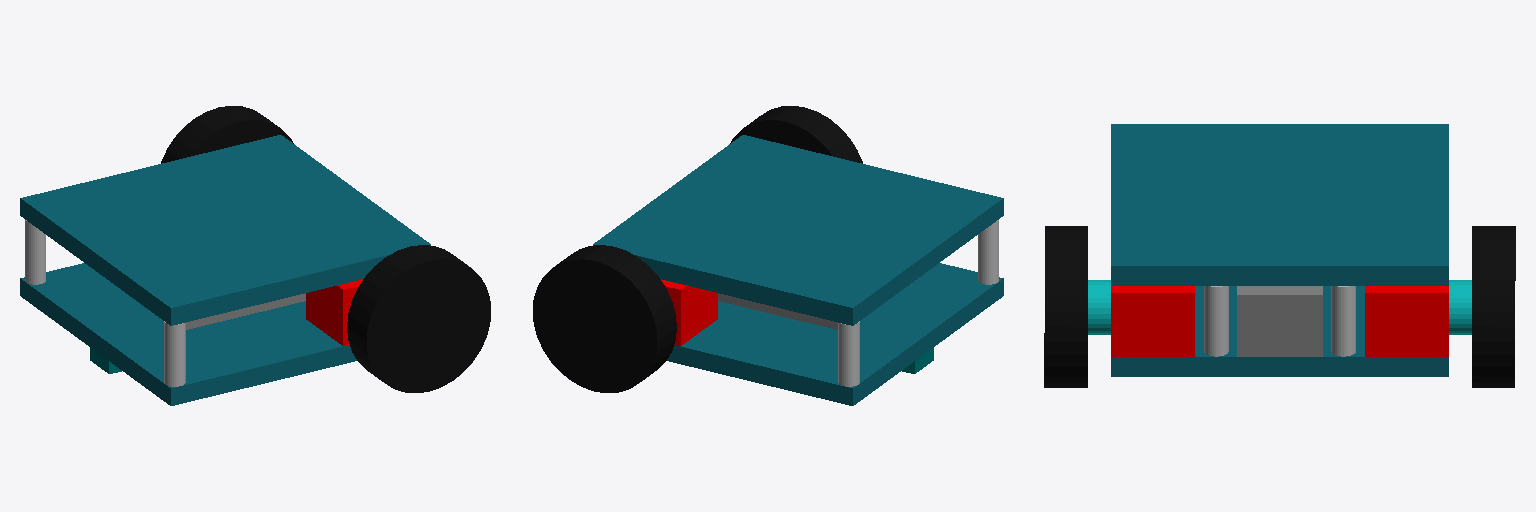
The robot description file, URDF, robot "turtlebot3_burger":
<?xml version="1.0"?>
<robot name="turtlebot3_burger" xmlns:xacro="http://www.ros.org/wiki/xacro">
  
  <material name="box_bot_blue">
      <color rgba="0.088656 0.428691 0.491021 1"/>
  </material>

  <material name="drive_motor">
      <color rgba="1 0 0 1"/>
  </material>

  <material name="battery">
      <color rgba="0.55 0.55 0.55 1"/>
  </material>
  
  <material name="spacer_35mm">
      <color rgba="0.75 0.75 0.75 1"/>
  </material>

  <material name="wheel_axel">
      <color rgba="0.1 0.75 0.75 1"/>
  </material>
  
  <material name="wheel">
      <color rgba="0.1 0.1 0.1 1"/>
  </material>

  <material name="castor_wheel_support">
      <color rgba="0 0.5 0.5 1"/>
  </material>

  <material name="red">
      <color rgba="1.0 0.0 0.0 1"/>
  </material>

  <material name="green_light">
      <color rgba="0.0 1.0 0.0 1"/>
  </material>

  <material name="green_dark">
    <color rgba="0.0 0.5 0.0 1"/>
  </material>

  <material name="blue">
      <color rgba="0.0 0.0 1.0 1"/>
  </material>

  <material name="black">
      <color rgba="0.0 0.0 0.0 1"/>
  </material>

  <material name="white">
      <color rgba="1.0 1.0 1.0 1"/>
  </material>

  <link name="base_link">
  </link>


  <!-- chassis 137.5mm x 137.5mm x 9mm -->
  <link name="chassis">

    <inertial>
      <mass value="0.2"/>
      <origin rpy="0 0 0" xyz="0 0 0"/>
      <inertia ixx="0.00011075895833333336" ixy="0" ixz="0" iyy="0.00011075895833333336" iyz="0" izz="0.00022057291666666671"/>
    </inertial>

    <collision>
      <geometry>
        <box size="0.1375 0.1375 0.009"/>
      </geometry>
    </collision>

    <visual>
      <geometry>
        <box size="0.1375 0.1375 0.009"/>
      </geometry>
      <material name="box_bot_blue"/>
    </visual>
  </link>

  <joint name="base_link_joint" type="fixed">
    <origin rpy="0 0 0" xyz="0 0 0" />
    <parent link="base_link" />
    <child link="chassis" />
  </joint>

  <!-- chassis 137.5mm x 137.5mm x 9mm -->
  <link name="chassis1">
    <inertial>
      <mass value="0.2"/>
      <origin rpy="0 0 0" xyz="0 0 0"/>
      <inertia ixx="0.00011075895833333336" ixy="0" ixz="0" iyy="0.00011075895833333336" iyz="0" izz="0.00022057291666666671"/>
    </inertial>

    <collision>
      <geometry>
        <box size="0.1375 0.1375 0.009"/>
      </geometry>
    </collision>

    <visual>
      <geometry>
        <box size="0.1375 0.1375 0.009"/>
      </geometry>
      <material name="box_bot_blue"/>
    </visual>
  </link>
  <joint name="chasis_to_chasis_1" type="fixed">
    <origin rpy="0 0 0" xyz="0 0 0.0405" />
    <parent link="chassis" />
    <child link="chassis1" />
  </joint>

  <!-- Drive motor - 46.5mm x 34mm x 28.5mm -->
  <link name="drive_motor_1">

 <inertial>
    <mass value="0.050"/>
    <origin xyz="0 0 0" rpy="0 0 0"/> <!-- Center of mass assumed at the origin -->
    <inertia ixx="8.201041666666668e-06" ixy="0" ixz="0"
             iyy="1.239375e-05" iyz="0"
             izz="1.3826041666666666e-05"/>
  </inertial>

  <!-- Collision Block -->
  <collision>
    <geometry>
      <box size="0.0465 0.034 0.0285"/> <!-- Width, Depth, Height -->
    </geometry>
    <origin xyz="0 0 0" rpy="0 0 0"/> <!-- Assuming the collision box is aligned with the link's frame -->
  </collision>

    <visual>
      <geometry>
        <box size="0.0465 0.034 0.0285"/>
      </geometry>
      <material name="drive_motor"/>
    </visual>
  </link>

<joint name="chasis_left_drive_motor" type="fixed">
  <origin rpy="0 0 0" xyz="0.0455 0.05175 0.01875" />
  <parent link="chassis" />
  <child link="drive_motor_1" />
</joint>

  <link name="drive_motor_2">
 <inertial>
    <mass value="0.050"/>
    <origin xyz="0 0 0" rpy="0 0 0"/> <!-- Center of mass assumed at the origin -->
    <inertia ixx="8.201041666666668e-06" ixy="0" ixz="0"
             iyy="1.239375e-05" iyz="0"
             izz="1.3826041666666666e-05"/>
  </inertial>

  <!-- Collision Block -->
  <collision>
    <geometry>
      <box size="0.0465 0.034 0.0285"/> <!-- Width, Depth, Height -->
    </geometry>
    <origin xyz="0 0 0" rpy="0 0 0"/> <!-- Assuming the collision box is aligned with the link's frame -->
  </collision>  
    <visual>
      <geometry>
        <box size="0.0465 0.034 0.0285"/>
      </geometry>
      <material name="drive_motor"/>
    </visual>
  </link>

<joint name="chasis_right_drive_motor" type="fixed">
  <origin rpy="0 0 0" xyz="0.0455 -0.05175 0.01875" />
  <parent link="chassis" />
  <child link="drive_motor_2" />
</joint>

    <!-- 0.2 kg 0.100 0.035 0.0275 -->

  <link name="battery">
  <!-- Inertial Block -->
  <inertial>
    <mass value="0.2"/>
    <origin xyz="0 0 0" rpy="0 0 0"/> <!-- Center of mass assumed at the origin -->
    <inertia ixx="3.302083333333334e-05" ixy="0" ixz="0"
             iyy="0.00017927083333333337" iyz="0"
             izz="0.00018708333333333337"/>
  </inertial>

  <!-- Collision Block -->
  <collision>
    <geometry>
      <box size="0.1 0.035 0.0275"/> <!-- Width, Depth, Height -->
    </geometry>
    <origin xyz="0 0 0" rpy="0 0 0"/> <!-- Assuming the collision box is aligned with the link's frame -->
  </collision>

    <visual>
      <geometry>
        <box size="0.100 0.035 0.0275"/>
      </geometry>
      <material name="battery"/>
    </visual>
  </link>

<joint name="chasis_battery" type="fixed">
  <origin rpy="0 0 0" xyz="0.01875 0 0.01825" />
  <parent link="chassis" />
  <child link="battery" />
</joint>

  <link name="spacer_chasis_1_01">
  <inertial>
    <mass value="0.007"/>
    <origin xyz="0 0 0" rpy="0 0 0"/> <!-- Center of mass assumed at the origin -->
    <inertia ixx="7.583333333333335e-07" ixy="0" ixz="0"
             iyy="7.583333333333335e-07" iyz="0"
             izz="8.750000000000001e-08"/>
  </inertial>

  <!-- Collision Block -->
  <collision>
    <geometry>
      <cylinder radius="0.005" length="0.035"/> <!-- Radius and Height (length) of the cylinder -->
    </geometry>
    <origin xyz="0 0 0" rpy="0 0 0"/> <!-- Assuming the collision cylinder is aligned with the link's frame -->
  </collision>  
    <visual>
      <geometry>
        <cylinder radius="0.005" length="0.035"/>
      </geometry>
      <material name="spacer_35mm"/>
    </visual>
  </link>

<joint name="chasis_spacer_chasis_1_01" type="fixed">
  <origin rpy="0 0 0" xyz="0.06375 -0.025875 0.01825" />
  <parent link="chassis" />
  <child link="spacer_chasis_1_01" />
</joint>

 <link name="spacer_chasis_1_02">
   <inertial>
    <mass value="0.007"/>
    <origin xyz="0 0 0" rpy="0 0 0"/> <!-- Center of mass assumed at the origin -->
    <inertia ixx="7.583333333333335e-07" ixy="0" ixz="0"
             iyy="7.583333333333335e-07" iyz="0"
             izz="8.750000000000001e-08"/>
  </inertial>

  <!-- Collision Block -->
  <collision>
    <geometry>
      <cylinder radius="0.005" length="0.035"/> <!-- Radius and Height (length) of the cylinder -->
    </geometry>
    <origin xyz="0 0 0" rpy="0 0 0"/> <!-- Assuming the collision cylinder is aligned with the link's frame -->
  </collision>
    <visual>
      <geometry>
        <cylinder radius="0.005" length="0.035"/>
      </geometry>
      <material name="spacer_35mm"/>
    </visual>
  </link>

<joint name="chasis_spacer_chasis_1_02" type="fixed">
  <origin rpy="0 0 0" xyz="0.06375 0.025875 0.01825" />
  <parent link="chassis" />
  <child link="spacer_chasis_1_02" />
</joint>


 <link name="spacer_chasis_1_03">
   <inertial>
    <mass value="0.007"/>
    <origin xyz="0 0 0" rpy="0 0 0"/> <!-- Center of mass assumed at the origin -->
    <inertia ixx="7.583333333333335e-07" ixy="0" ixz="0"
             iyy="7.583333333333335e-07" iyz="0"
             izz="8.750000000000001e-08"/>
  </inertial>

  <!-- Collision Block -->
  <collision>
    <geometry>
      <cylinder radius="0.005" length="0.035"/> <!-- Radius and Height (length) of the cylinder -->
    </geometry>
    <origin xyz="0 0 0" rpy="0 0 0"/> <!-- Assuming the collision cylinder is aligned with the link's frame -->
  </collision>
    <visual>
      <geometry>
        <cylinder radius="0.005" length="0.035"/>
      </geometry>
      <material name="spacer_35mm"/>
    </visual>
  </link>

<joint name="chasis_spacer_chasis_1_03" type="fixed">
  <origin rpy="0 0 0" xyz="-0.06375 -0.06375 0.01825" />
  <parent link="chassis" />
  <child link="spacer_chasis_1_03" />
</joint>

 <link name="spacer_chasis_1_04">
   <inertial>
    <mass value="0.007"/>
    <origin xyz="0 0 0" rpy="0 0 0"/> <!-- Center of mass assumed at the origin -->
    <inertia ixx="7.583333333333335e-07" ixy="0" ixz="0"
             iyy="7.583333333333335e-07" iyz="0"
             izz="8.750000000000001e-08"/>
  </inertial>

  <!-- Collision Block -->
  <collision>
    <geometry>
      <cylinder radius="0.005" length="0.035"/> <!-- Radius and Height (length) of the cylinder -->
    </geometry>
    <origin xyz="0 0 0" rpy="0 0 0"/> <!-- Assuming the collision cylinder is aligned with the link's frame -->
  </collision>
    <visual>
      <geometry>
        <cylinder radius="0.005" length="0.035"/>
      </geometry>
      <material name="spacer_35mm"/>
    </visual>
  </link>

<joint name="chasis_spacer_chasis_1_04" type="fixed">
  <origin rpy="0 0 0" xyz="-0.06375 0.06375 0.01825" />
  <parent link="chassis" />
  <child link="spacer_chasis_1_04" />
</joint>

 <link name="drive_wheel_axel_l">
  <!-- Inertial Block -->
  <inertial>
    <mass value="0.010"/>
    <origin xyz="0 0 0" rpy="0 0 0"/> <!-- Center of mass assumed at the origin -->
    <inertia ixx="3.892583333333333e-07" ixy="0" ixz="0"
             iyy="3.892583333333333e-07" iyz="0"
             izz="6.328125e-07"/>
  </inertial>

  <!-- Collision Block -->
  <collision>
    <geometry>
      <cylinder radius="0.01125" length="0.00935"/> <!-- Radius and Height (length) of the cylinder -->
    </geometry>
    <origin xyz="0 0 0" rpy="0 0 0"/> <!-- Assuming the collision cylinder is aligned with the link's frame -->
  </collision>

    <visual>
      <geometry>
        <cylinder radius="0.01125" length="0.00935" />
      </geometry>
      <material name="wheel_axel"/>
    </visual>
  </link>

<joint name="drive_wheel_to_axel_l" type="fixed">
  <origin rpy="1.57 0 0" xyz="0.05175 -0.073425 0.01875" />
  <parent link="chassis" />
  <child link="drive_wheel_axel_l" />
</joint>

 <link name="drive_wheel_axel_r">
  <!-- Inertial Block -->
  <inertial>
    <mass value="0.010"/>
    <origin xyz="0 0 0" rpy="0 0 0"/> <!-- Center of mass assumed at the origin -->
    <inertia ixx="3.892583333333333e-07" ixy="0" ixz="0"
             iyy="3.892583333333333e-07" iyz="0"
             izz="6.328125e-07"/>
  </inertial>

  <!-- Collision Block -->
  <collision>
    <geometry>
      <cylinder radius="0.01125" length="0.00935"/> <!-- Radius and Height (length) of the cylinder -->
    </geometry>
    <origin xyz="0 0 0" rpy="0 0 0"/> <!-- Assuming the collision cylinder is aligned with the link's frame -->
  </collision> 
    <visual>
      <geometry>
        <cylinder radius="0.01125" length="0.00935" />
      </geometry>
      <material name="wheel_axel"/>
    </visual>
  </link>

<joint name="drive_wheel_to_axel_r" type="fixed">
  <origin rpy="1.57 0 0" xyz="0.05175 0.073425 0.01875" />
  <parent link="chassis" />
  <child link="drive_wheel_axel_r" />
</joint>

 <link name="drive_wheel_l">
   <inertial>
    <mass value="0.010" />
    <origin xyz="0 0 0" rpy="0 0 0" />
    <inertia ixx="2.986533333333334e-06" ixy="0" ixz="0" 
             iyy="2.986533333333334e-06" iyz="0" izz="5.445e-06" />
  </inertial>

  <!-- Collision Properties -->
  <collision>
    <origin xyz="0 0 0" rpy="0 0 0" />
    <geometry>
      <cylinder radius="0.033" length="0.0178" />
    </geometry>
  </collision>

    <visual>
      <geometry>
        <cylinder radius="0.033" length="0.0178" />
      </geometry>
      <material name="wheel"/>
    </visual>
  </link>

<joint name="drive_wheel_tire_to_axel_l" type="continuous">
  <origin rpy="1.57 0 0" xyz="0.05175 -0.087 0.01875" />
  <parent link="chassis" />
  <child link="drive_wheel_l"/>
  <axis xyz="0 0 1"/>
</joint>

 <link name="drive_wheel_r">
  <inertial>
    <mass value="0.010" />
    <origin xyz="0 0 0" rpy="0 0 0" />
    <inertia ixx="2.986533333333334e-06" ixy="0" ixz="0" 
             iyy="2.986533333333334e-06" iyz="0" izz="5.445e-06" />
  </inertial>

  <!-- Collision Properties -->
  <collision>
    <origin xyz="0 0 0" rpy="0 0 0" />
    <geometry>
      <cylinder radius="0.033" length="0.0178" />
    </geometry>
  </collision>

    <visual>
      <geometry>
        <cylinder radius="0.033" length="0.0178" />
      </geometry>
      <material name="wheel"/>
    </visual>
  </link>

<joint name="drive_wheel_tire_to_axel_r" type="continuous">
  <origin rpy="1.57 0 0" xyz="0.05175 0.087 0.01875" />
  <parent link="chassis" />
  <child link="drive_wheel_r"/> 
  <axis xyz="0 0 1"/>
</joint>

<!-- Castor wheel -->
 <link name="drive_castor_wheel_support">
  <inertial>
    <mass value="0.010" />
    <origin xyz="0 0 0" rpy="0 0 0" />
    <inertia ixx="3.233333333333333e-07" ixy="0" ixz="0" 
             iyy="8.033333333333334e-07" iyz="0" izz="1.02e-06" />
  </inertial>

  <!-- Collision Properties -->
  <collision>
    <origin xyz="0 0 0" rpy="0 0 0" />
    <geometry>
      <box size="0.030 0.018 0.008" />
    </geometry>
  </collision> 
    <visual>
      <geometry>
        <box size="0.030 0.018 0.008" />
      </geometry>
      <material name="castor_wheel_support"/>
    </visual>
  </link>

<joint name="drive_castor_wheel_support_size" type="fixed">
  <origin rpy="0 0 0" xyz="-0.05175 0 -0.009" />
  <parent link="chassis" />
  <child link="drive_castor_wheel_support"/> 
</joint>

  <!-- Caster Wheel Front -->
  <link name="front_yaw_link">
      <collision>
        <origin rpy="0 1.5707 1.5707" xyz="0 0 0"/>
        <geometry>
          <cylinder length="0.001" radius="0.0045000000000000005"/>
        </geometry>
      </collision>

      <inertial>
          <origin rpy="0 1.5707 1.5707" xyz="0 0 0"/>
          <mass value="0.001"/>
          <inertia ixx="5.145833333333334e-09" ixy="0" ixz="0" iyy="5.145833333333334e-09" iyz="0" izz="1.0125000000000003e-08"/>
      </inertial>  
    <visual>
        <origin rpy="0 1.5707 1.5707" xyz="0 0 0"/>
        <geometry>
          <cylinder length="0.001" radius="0.005"/>
        </geometry>
        <material name="blue"/>
      </visual>
  </link>

  <joint name="front_yaw_joint" type="continuous">
    <origin rpy="0 0 0" xyz="0 0 -0.004" />
    <parent link="drive_castor_wheel_support" />
    <child link="front_yaw_link" />
    <axis xyz="0 0 1" />
    <limit effort="1000.0" velocity="100.0" />
    <dynamics damping="0.0" friction="0.1"/>
  </joint>

  <link name="front_roll_link">
     <collision>
        <origin rpy="0 1.5707 1.5707" xyz="0 0 0"/>
        <geometry>
          <cylinder length="0.001" radius="0.0045000000000000005"/>
        </geometry>
      </collision>

      <inertial>
          <origin rpy="0 1.5707 1.5707" xyz="0 0 0"/>
          <mass value="0.001"/>
          <inertia ixx="5.145833333333334e-09" ixy="0" ixz="0" iyy="5.145833333333334e-09" iyz="0" izz="1.0125000000000003e-08"/>
      </inertial>  
      <visual>
        <origin rpy="0 1.5707 1.5707" xyz="0 0 0"/>
        <geometry>
          <cylinder length="0.005" radius="0.005"/>
        </geometry>
        <material name="red"/>
      </visual>
  </link>

  <joint name="front_roll_joint" type="continuous">
    <origin rpy="0 0 0" xyz="0 0 0" />
    <parent link="front_yaw_link" />
    <child link="front_roll_link" />
    <axis xyz="1 0 0" />
    <limit effort="1000.0" velocity="100.0" />
    <dynamics damping="0.0" friction="0.1"/>
  </joint>

  <link name="front_pitch_link">
    <collision>
      <origin rpy="0 1.5707 1.5707" xyz="0 0 0"/>
      <geometry>
        <sphere radius="0.010"/>
      </geometry>
    </collision>

    <inertial>
        <origin rpy="0 1.5707 1.5707" xyz="0 0 0"/>
        <mass value="0.001"/>
        <inertia ixx="4e-08" ixy="0" ixz="0" iyy="4e-08" iyz="0" izz="4e-08"/>
    </inertial>  
    <visual>
      <origin rpy="0 1.5707 1.5707" xyz="0 0 0"/>
      <geometry>
        <sphere radius="0.005"/>
      </geometry>
      <material name="green_dark"/>
    </visual>
  </link>

  <joint name="front_pitch_joint" type="continuous">
    <origin rpy="0 0 0" xyz="0 0 0" />
    <parent link="front_roll_link" />
    <child link="front_pitch_link" />
    <axis xyz="0 1 0" />
    <limit effort="1000.0" velocity="100.0" />
    <dynamics damping="0.0" friction="0.1"/>
  </joint>

</robot>

--- Render facts (derived) ---
The picture shows the robot from 3 angles, left to right: view 1: azimuth 30°, elevation 25°; view 2: azimuth 150°, elevation 25°; view 3: azimuth 270°, elevation 25°; orthographic projection.
Model turtlebot3_burger with 18 links and 17 joints (5 continuous, 12 fixed), rooted at base_link, posed every joint at zero.
Links seen in each view (by area): view 1: chassis1, chassis, drive_wheel_l, drive_wheel_r, drive_motor_2, spacer_chasis_1_03, spacer_chasis_1_04, battery; view 2: chassis1, chassis, drive_wheel_r, drive_wheel_l, drive_motor_1, spacer_chasis_1_04, spacer_chasis_1_03, battery; view 3: chassis1, chassis, drive_wheel_l, drive_wheel_r, battery, drive_motor_1, drive_motor_2, spacer_chasis_1_01, spacer_chasis_1_02, drive_wheel_axel_l, drive_wheel_axel_r.
Boxes of the visible links, x1=… form: chassis1: x1=20, y1=135, x2=430, y2=325; chassis: x1=20, y1=263, x2=356, y2=405; drive_wheel_l: x1=347, y1=245, x2=490, y2=392; drive_wheel_r: x1=161, y1=106, x2=293, y2=163; drive_motor_2: x1=306, y1=279, x2=362, y2=345; spacer_chasis_1_03: x1=164, y1=321, x2=185, y2=386; spacer_chasis_1_04: x1=25, y1=220, x2=45, y2=284; battery: x1=186, y1=293, x2=305, y2=329; chassis1: x1=593, y1=135, x2=1003, y2=325; chassis: x1=667, y1=263, x2=1003, y2=405; drive_wheel_r: x1=533, y1=245, x2=676, y2=392; drive_wheel_l: x1=730, y1=106, x2=862, y2=163; drive_motor_1: x1=661, y1=279, x2=717, y2=345; spacer_chasis_1_04: x1=838, y1=321, x2=859, y2=386; spacer_chasis_1_03: x1=978, y1=220, x2=998, y2=284; battery: x1=718, y1=293, x2=837, y2=329; chassis1: x1=1111, y1=124, x2=1448, y2=285; chassis: x1=1111, y1=286, x2=1448, y2=376; drive_wheel_l: x1=1044, y1=226, x2=1087, y2=387; drive_wheel_r: x1=1472, y1=226, x2=1515, y2=387; battery: x1=1237, y1=286, x2=1322, y2=356; drive_motor_1: x1=1365, y1=286, x2=1448, y2=356; drive_motor_2: x1=1111, y1=286, x2=1194, y2=356; spacer_chasis_1_01: x1=1204, y1=286, x2=1228, y2=356; spacer_chasis_1_02: x1=1331, y1=286, x2=1355, y2=356; drive_wheel_axel_l: x1=1088, y1=280, x2=1110, y2=334; drive_wheel_axel_r: x1=1449, y1=280, x2=1471, y2=334.
Size in the robot's own frame: 0.1535 by 0.1919 by 0.0698 metres.
Geometry: primitives only (box / cylinder / sphere), no mesh files.